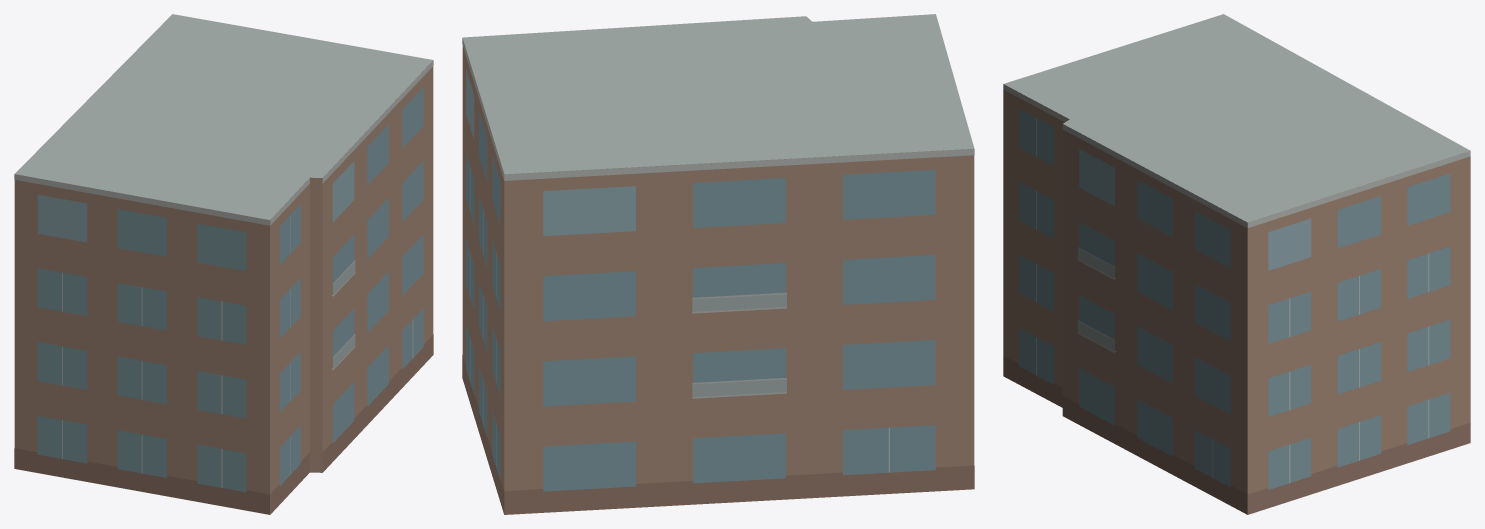
The model's file is survey-upis-32779653.glb.
The picture shows the model from 3 angles, left to right: view 1: azimuth 30°, elevation 25°; view 2: azimuth 150°, elevation 25°; view 3: azimuth 270°, elevation 25°; orthographic projection. The views are drawn at different scales.
Parts seen in each view (by area): view 1: survey-upis-32779653.tmp; view 2: survey-upis-32779653.tmp; view 3: survey-upis-32779653.tmp.
Boxes of the visible parts, x1=… form: survey-upis-32779653.tmp: x1=14, y1=14, x2=433, y2=514; survey-upis-32779653.tmp: x1=462, y1=14, x2=974, y2=514; survey-upis-32779653.tmp: x1=1003, y1=14, x2=1470, y2=514.
Size of the model in its own units: 19.45 by 12.7 by 18.41.
